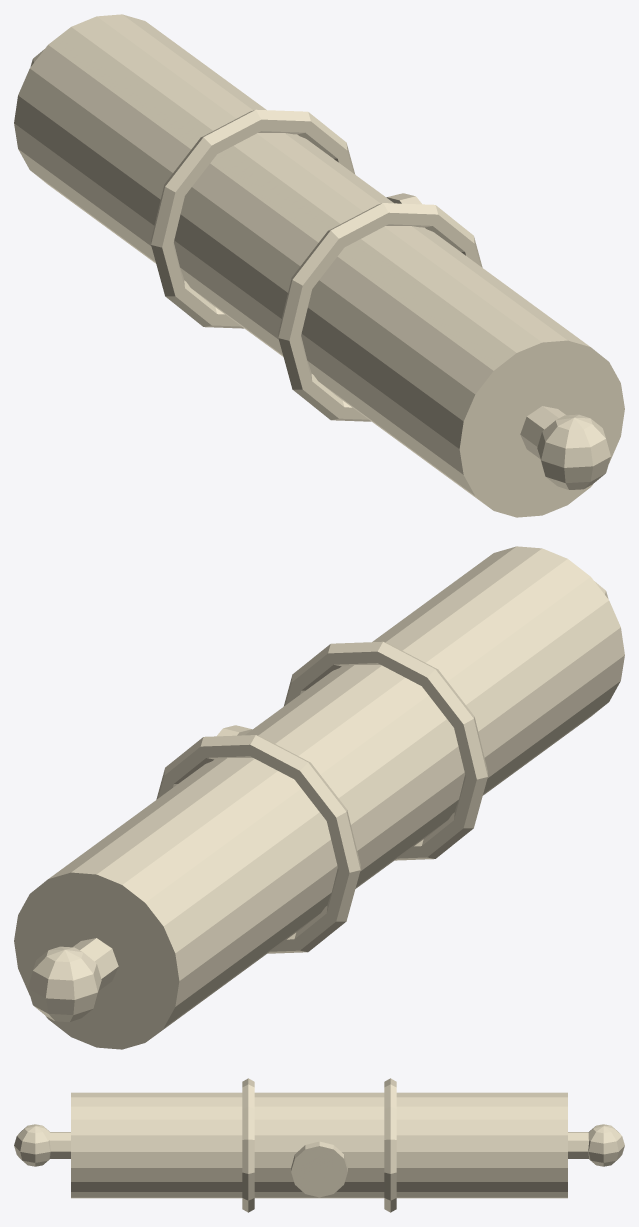
Rendered from scroll_rolled.glb.
3 renders of one model, top to bottom at view 1: azimuth 30°, elevation 25°; view 2: azimuth 150°, elevation 25°; view 3: azimuth 270°, elevation 25°, orthographic. The views are drawn at different scales.
Visible parts, largest first — view 1: scroll_rolled; view 2: scroll_rolled; view 3: scroll_rolled.
Part boxes in pixels (x1,y1,x2,y2): scroll_rolled: [14, 14, 624, 517]; scroll_rolled: [14, 546, 624, 1049]; scroll_rolled: [14, 1078, 624, 1212].
Size of the model in its own units: 0.038 by 0.038 by 0.172.
